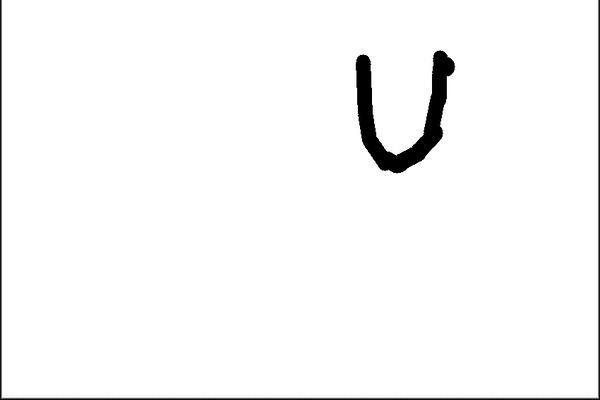U: (350, 40, 463, 176)
